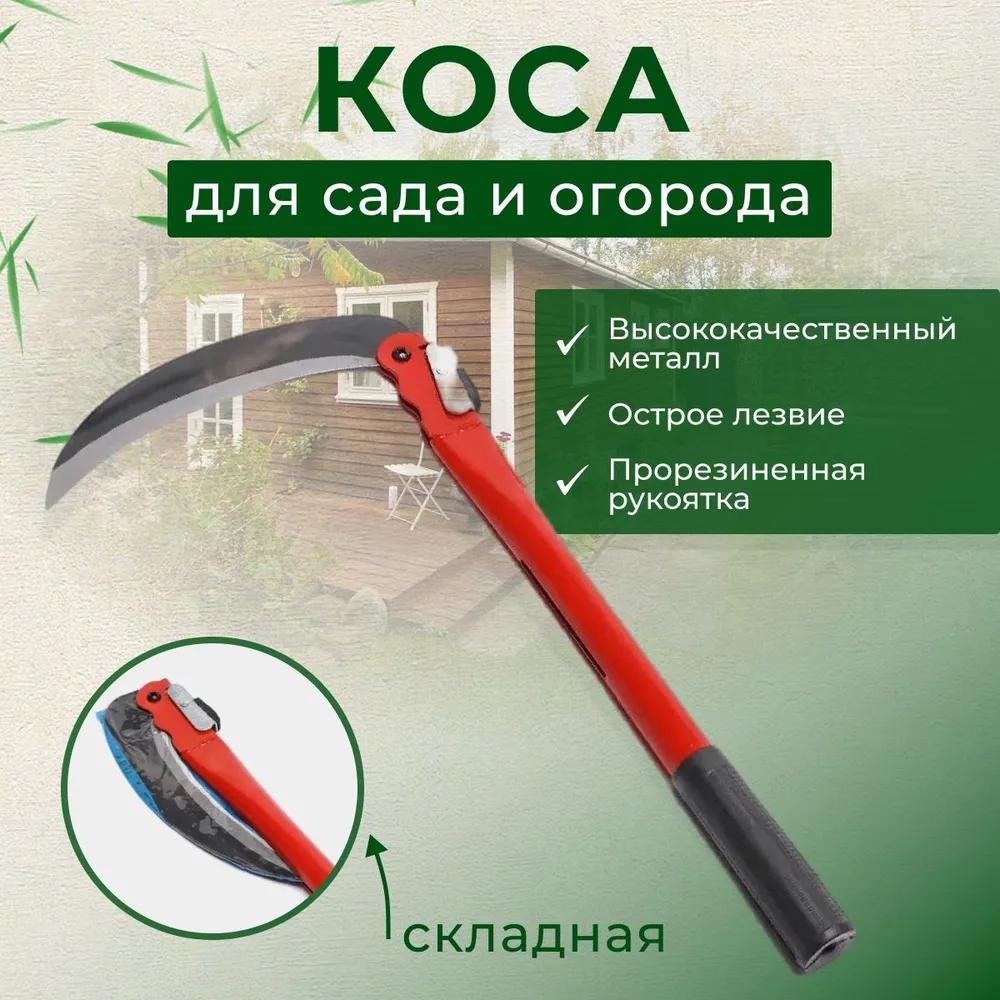faca: (100, 693, 301, 884)
foice: (48, 316, 853, 974)
